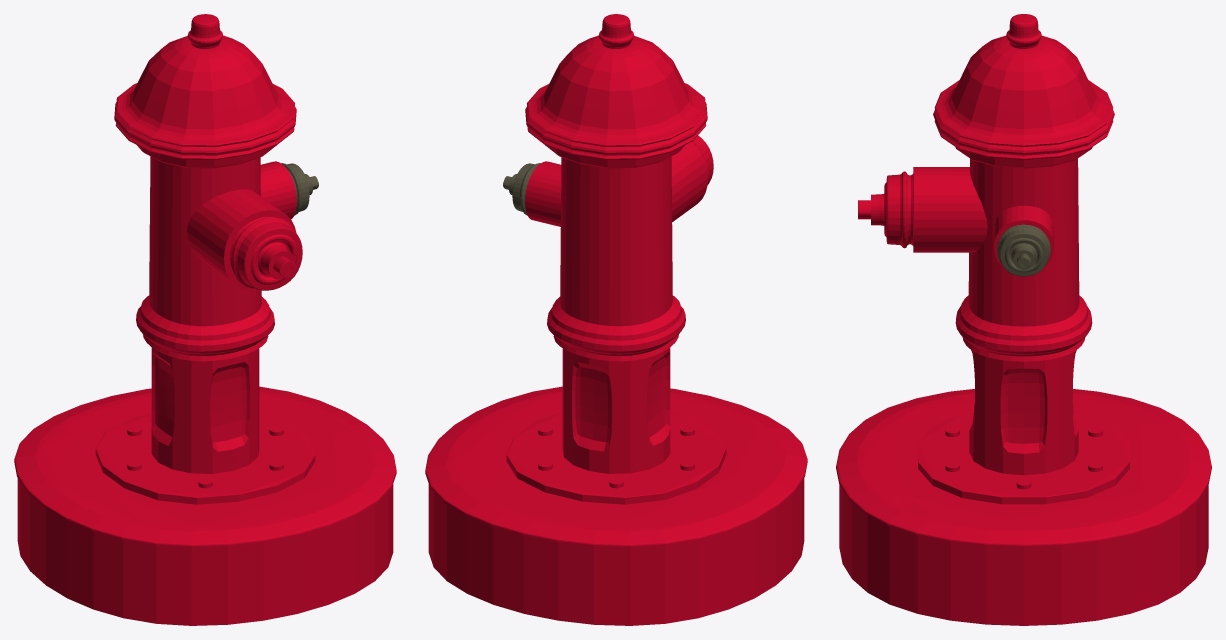
The model's file is fire_hydrant.fbx.
3 renders of one model, left to right at view 1: azimuth 30°, elevation 25°; view 2: azimuth 150°, elevation 25°; view 3: azimuth 270°, elevation 25°, orthographic.
Parts seen in each view (by area): view 1: FireHydrant.LP, FireHydrant.LP.001; view 2: FireHydrant.LP, FireHydrant.LP.001; view 3: FireHydrant.LP, FireHydrant.LP.001.
Part boxes in pixels (box(x1,y1,x2,y2)): FireHydrant.LP: box(14, 14, 396, 625); FireHydrant.LP.001: box(151, 347, 259, 473); FireHydrant.LP: box(425, 14, 807, 625); FireHydrant.LP.001: box(562, 347, 670, 473); FireHydrant.LP: box(836, 14, 1211, 625); FireHydrant.LP.001: box(969, 350, 1078, 475).
Size of the model in its own units: 73.32 by 73.32 by 114.
